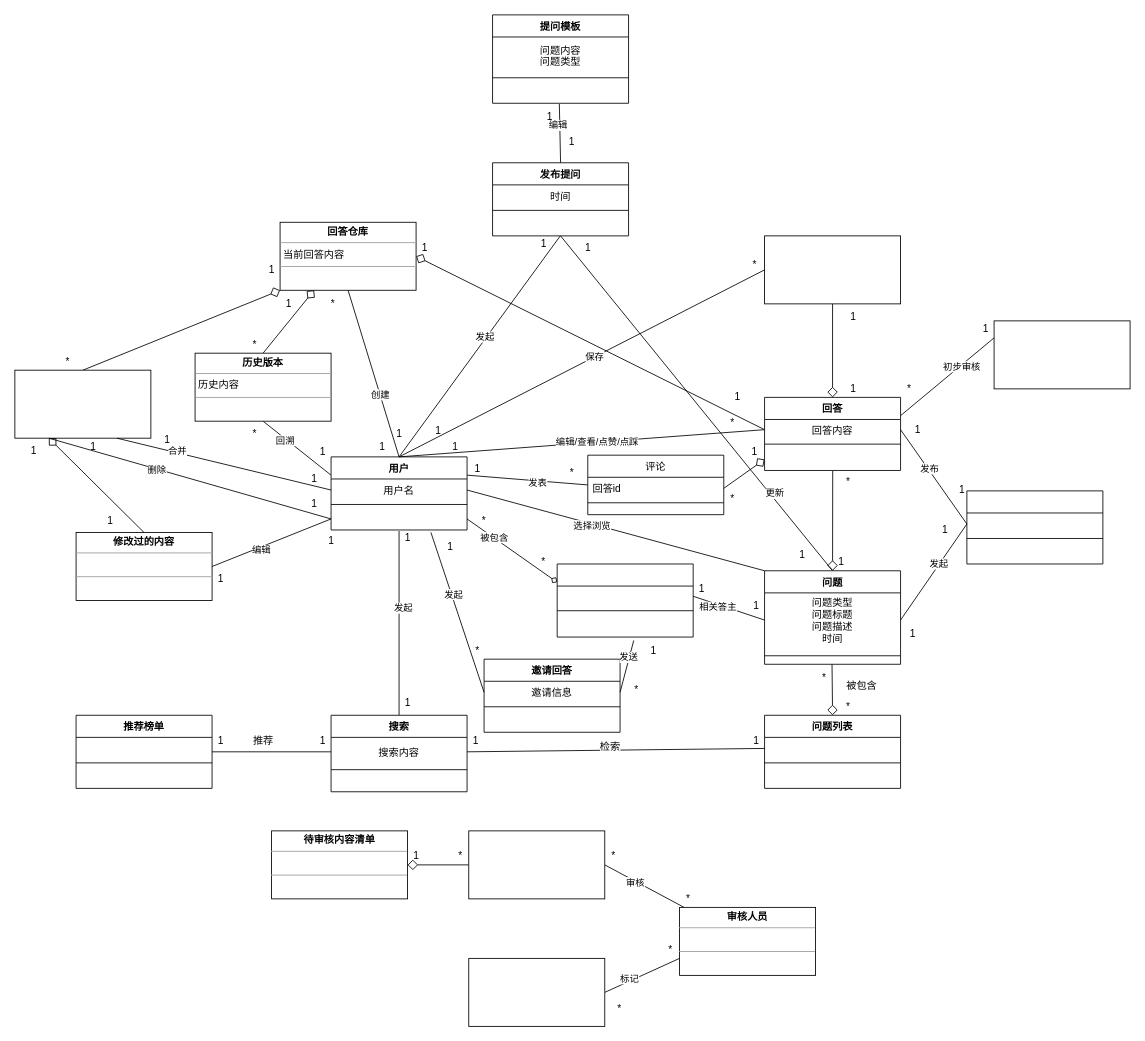
The diagram is 1145 pixels wide and 1041 high, and some of its shapes have lost their labels. The centre of each missing label's shape, as x and y in pixels:
"专家列表" goes at (624,600).
"合并请求 修改内容" goes at (82,403).
"回答草稿 草稿内容" goes at (832,269).
"审核标准列表 审核标准 是否通过" goes at (536,992).
"审核系统" goes at (1061,354).
"待审核内容 文字内容 图片内容" goes at (536,864).
"语料" goes at (1034,527).
